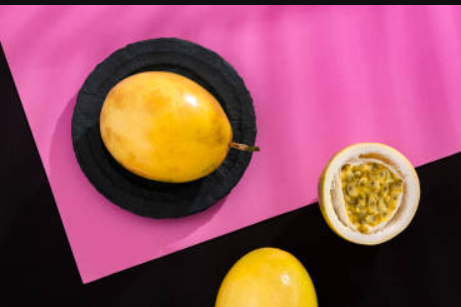maracuya: (92, 63, 239, 189)
